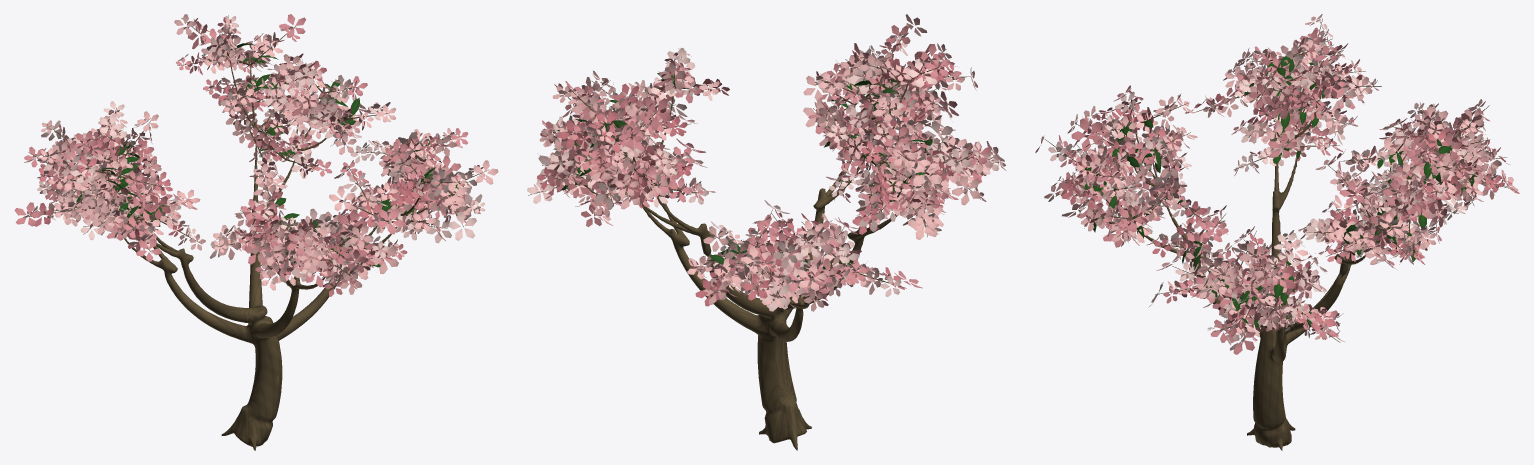
Rendered from Young.glb.
3 views of the same model, side by side, from view 1: azimuth 30°, elevation 25°; view 2: azimuth 150°, elevation 25°; view 3: azimuth 270°, elevation 25° (orthographic). The views are drawn at different scales.
Visible parts, largest first — view 1: Young_individual_five_petal_blossoms.004, Young_trunk.005, Young_branches.005, Young_young_leaves.004; view 2: Young_individual_five_petal_blossoms.004, Young_trunk.005, Young_branches.005, Young_young_leaves.004; view 3: Young_individual_five_petal_blossoms.004, Young_trunk.005, Young_young_leaves.004, Young_branches.005.
Part boxes in pixels (x1=…): Young_individual_five_petal_blossoms.004: x1=14, y1=14, x2=498, y2=296; Young_trunk.005: x1=122, y1=118, x2=406, y2=450; Young_branches.005: x1=23, y1=15, x2=489, y2=284; Young_young_leaves.004: x1=74, y1=43, x2=468, y2=267; Young_individual_five_petal_blossoms.004: x1=527, y1=14, x2=1006, y2=311; Young_trunk.005: x1=642, y1=147, x2=897, y2=450; Young_branches.005: x1=528, y1=22, x2=998, y2=306; Young_young_leaves.004: x1=553, y1=60, x2=932, y2=279; Young_individual_five_petal_blossoms.004: x1=1035, y1=14, x2=1519, y2=354; Young_trunk.005: x1=1136, y1=127, x2=1381, y2=450; Young_young_leaves.004: x1=1084, y1=56, x2=1477, y2=327; Young_branches.005: x1=1045, y1=18, x2=1514, y2=346.
Bounding box in the file's own units: 5.18 × 4.22 × 5.17.
3 materials, 3 textured.
